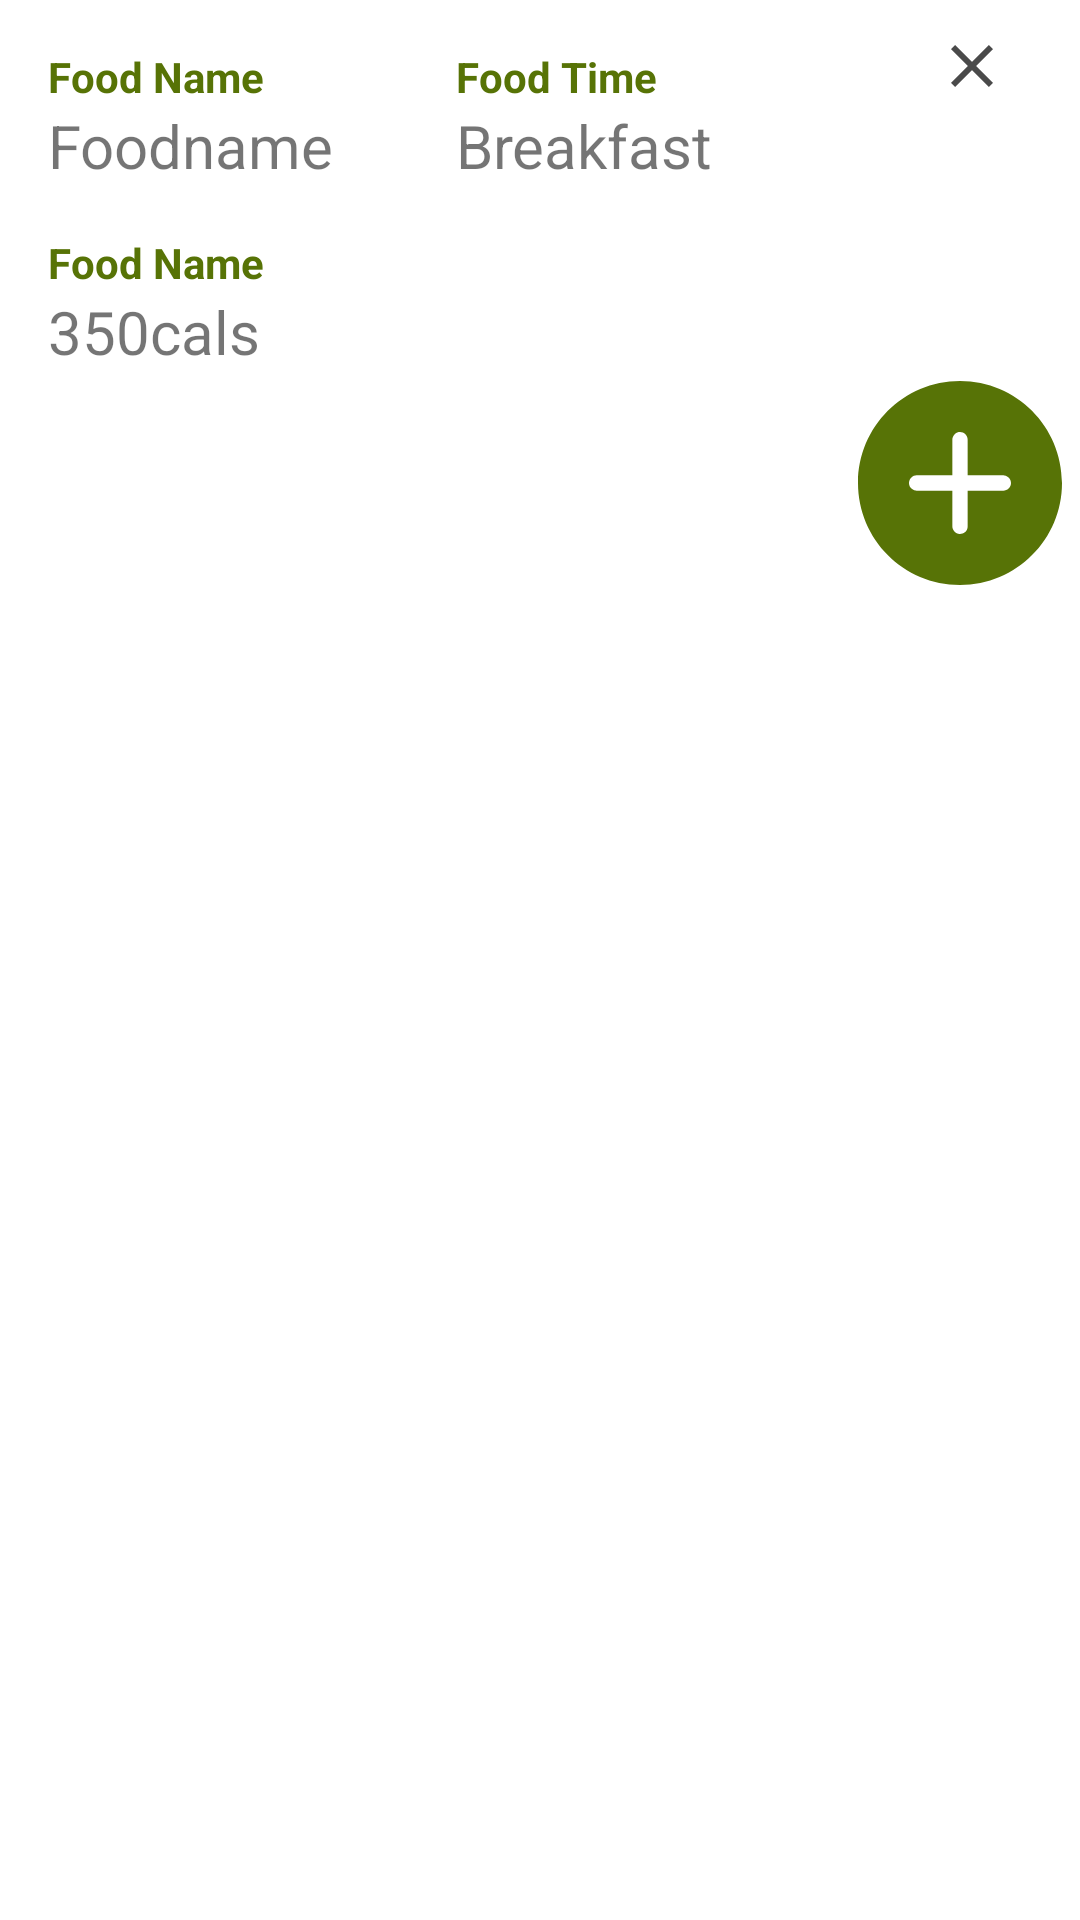

Where icons sit on this 1080×1920 app screen, as (x1, y1, x2, y2):
clickable add food button: (858, 381, 1062, 585)
exit edit calories: (951, 45, 993, 87)
